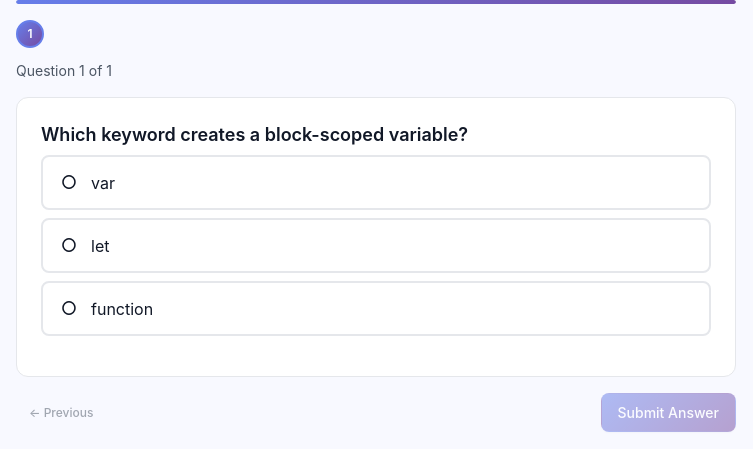
it: QuizPanel › Submit Answer button becomes enabled after selecting an option
This screenshot has width=753, height=449.
Click the button "○ let": [69, 246] box [41,218,711,273]
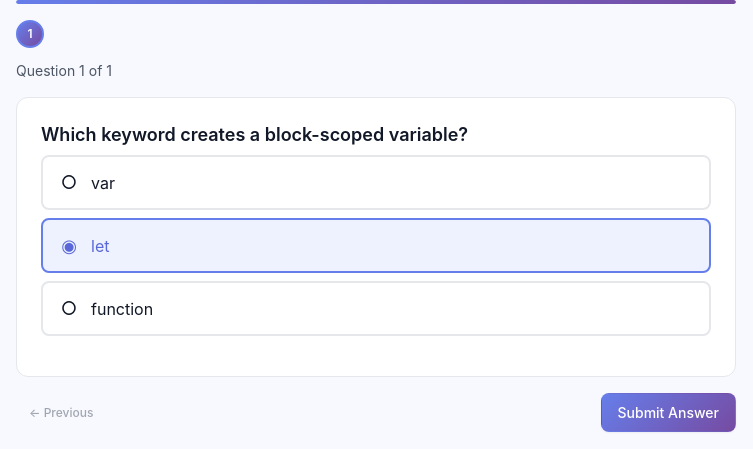
Now the button "Submit Answer" is enabled, box [600,393,736,432]
